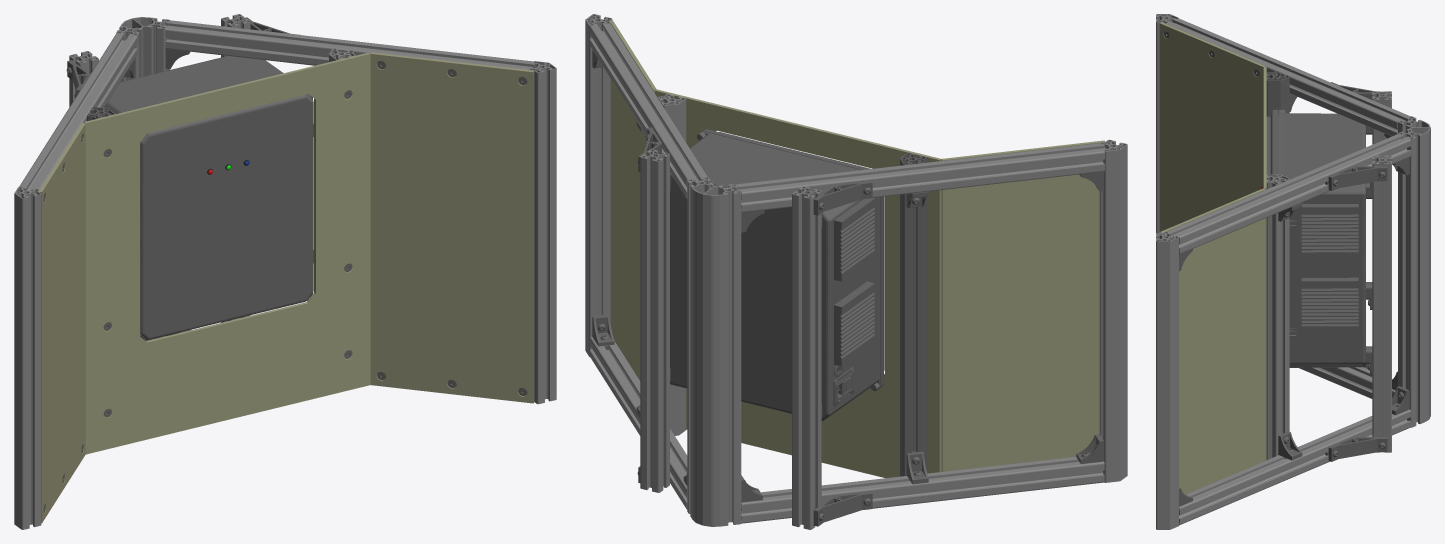
The model's file is wibotic_tr301.dae.
3 renders of one model, left to right at view 1: azimuth 30°, elevation 25°; view 2: azimuth 150°, elevation 25°; view 3: azimuth 270°, elevation 25°, orthographic. The views are drawn at different scales.
Visible parts, largest first — view 1: TR301; view 2: TR301; view 3: TR301.
Boxes of the visible parts, <box> form: TR301: <box>14,14,556,529</box>; TR301: <box>585,14,1127,529</box>; TR301: <box>1156,14,1430,529</box>.
Bounding box in the file's own units: 1.1 × 0.5609 × 0.65.
